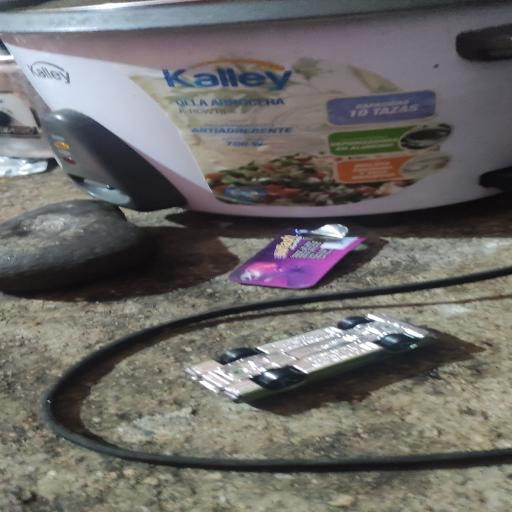Carrito: (186, 312, 436, 402)
